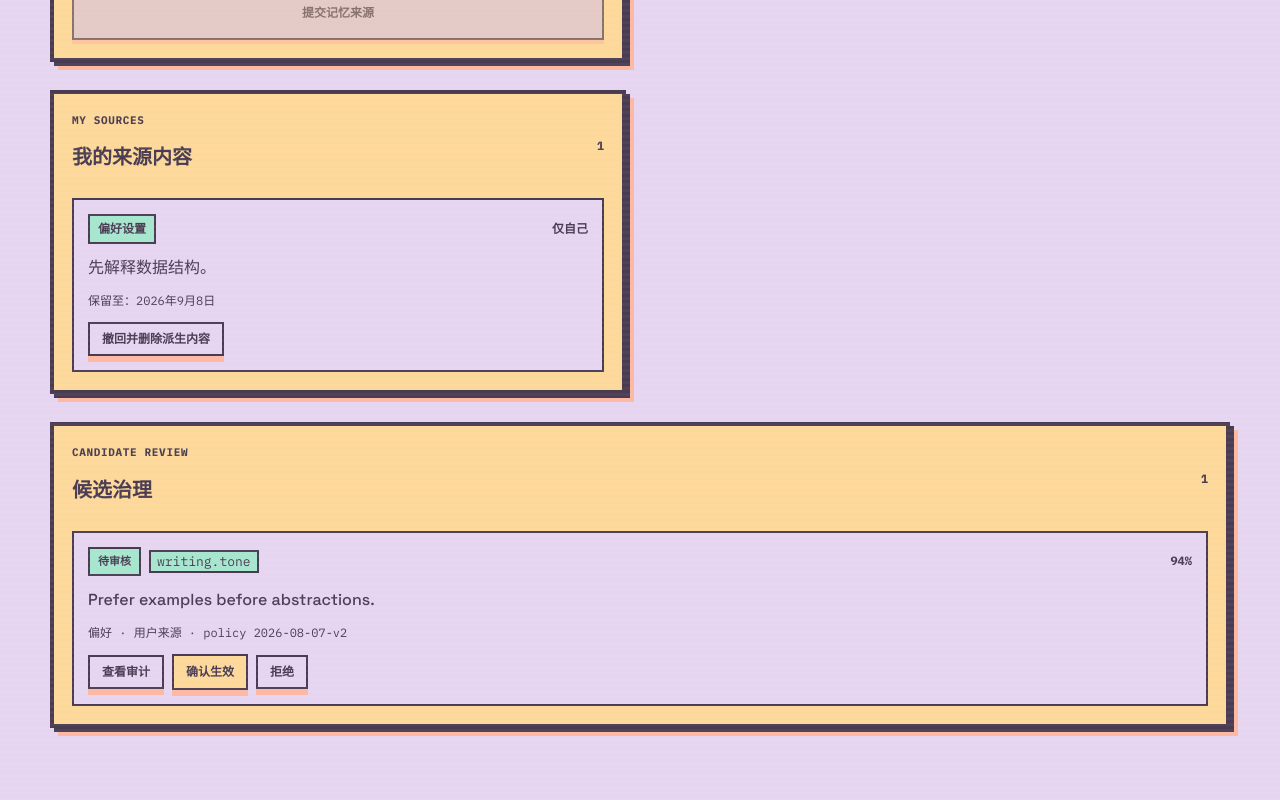
Memory management workspace › sends explicit replacement identity when an editor confirms a conflict
(page scrolled)
Click the button "确认生效": (210, 672) [172, 653, 248, 690]
(page scrolled)
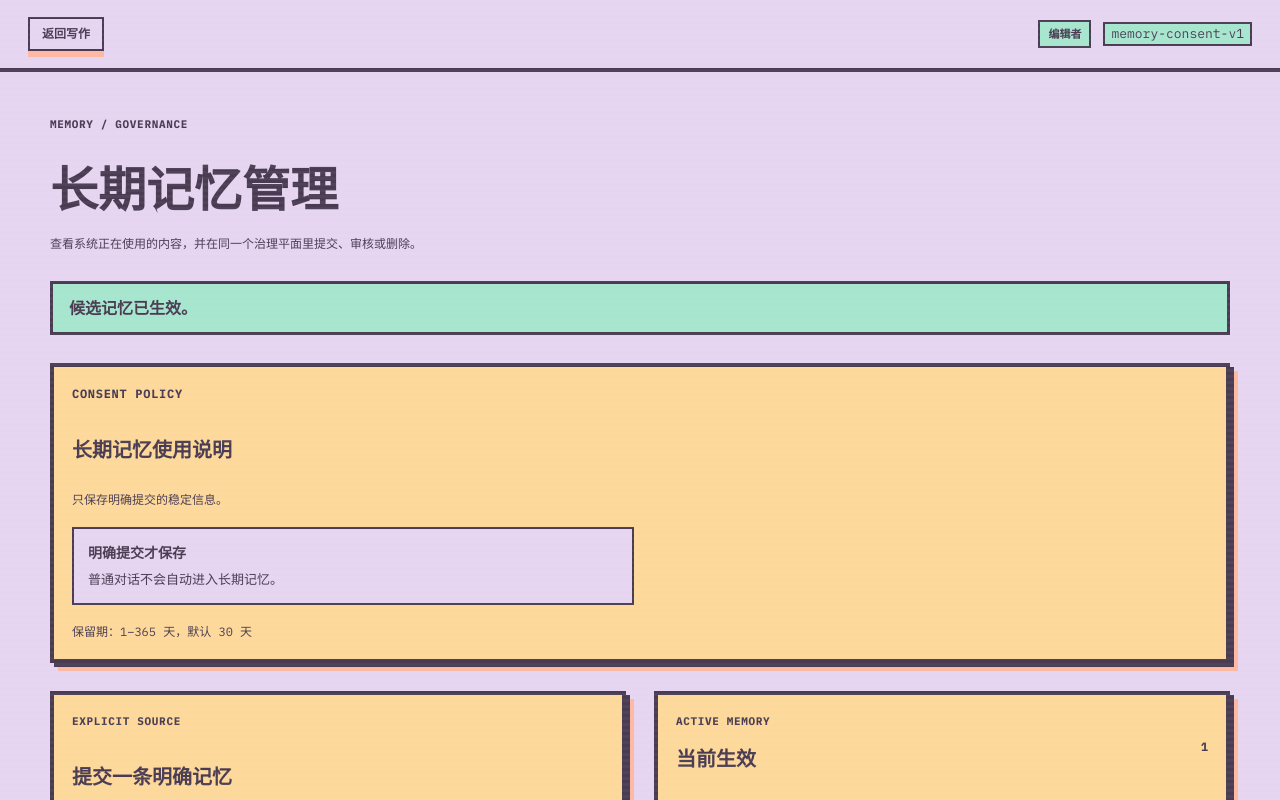
Now the text "候选记忆已生效。" is shown, box [50, 280, 1230, 334]
